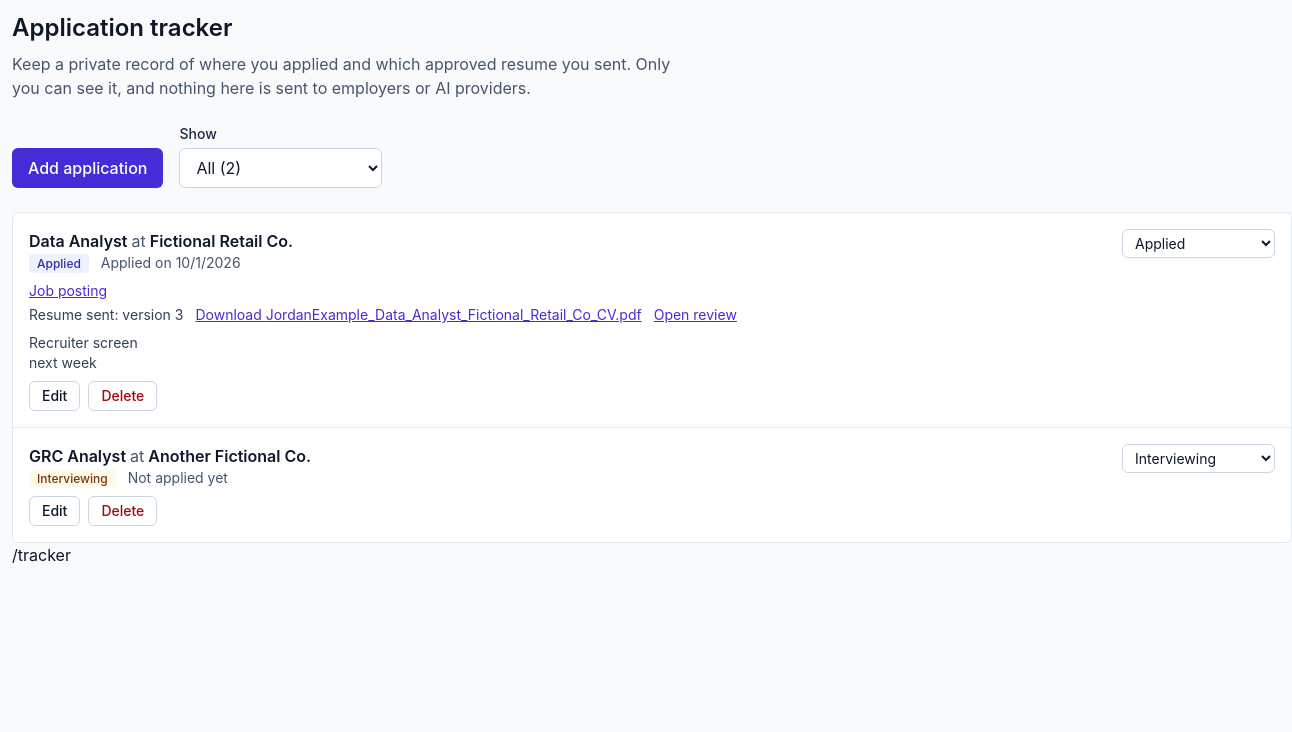
TrackerPage › asks before deleting and sends the version it loaded
The width and height of the screenshot is (1292, 732).
Check: the heading "Data Analyst at Fictional Retail Co." is shown, box x1=29 y1=229 x2=293 y2=253
Click the button with aria-label "Delete Data Analyst" at (123, 396), box x1=88 y1=381 x2=157 y2=411
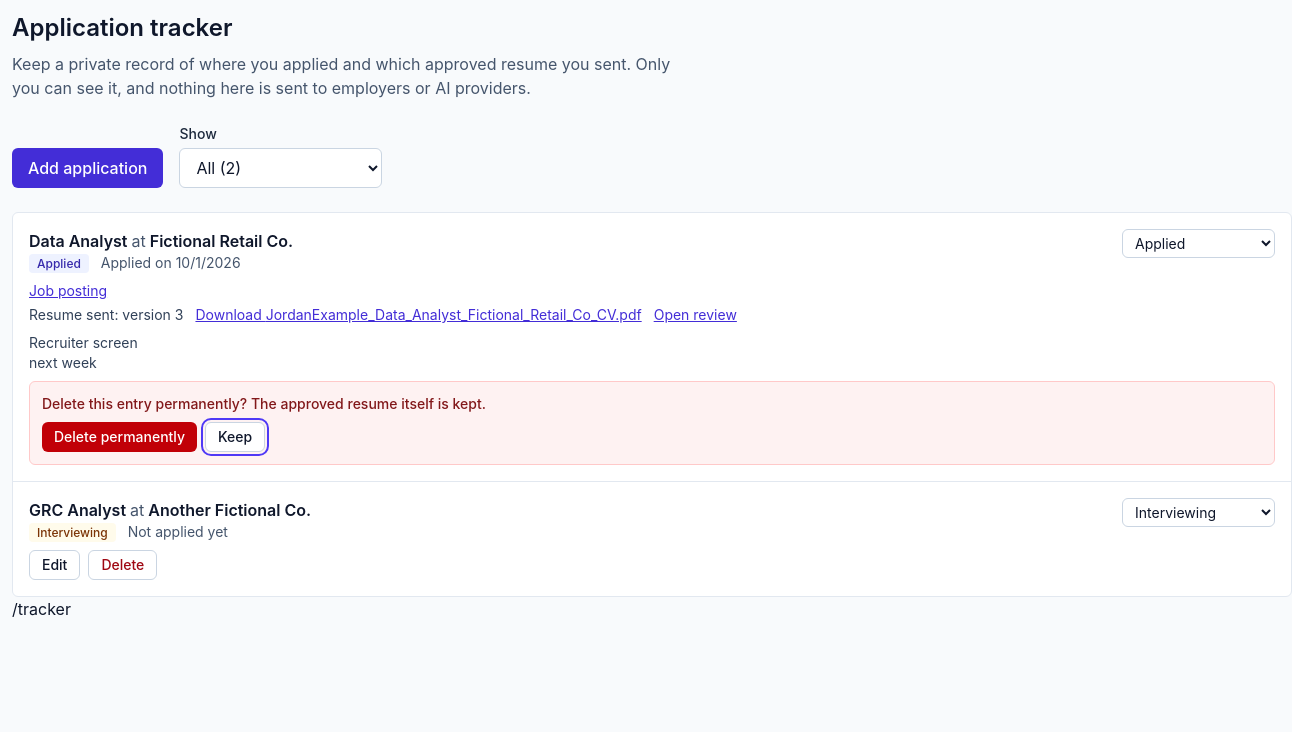
Click the button "Keep" at (235, 437), box x1=205 y1=422 x2=265 y2=452
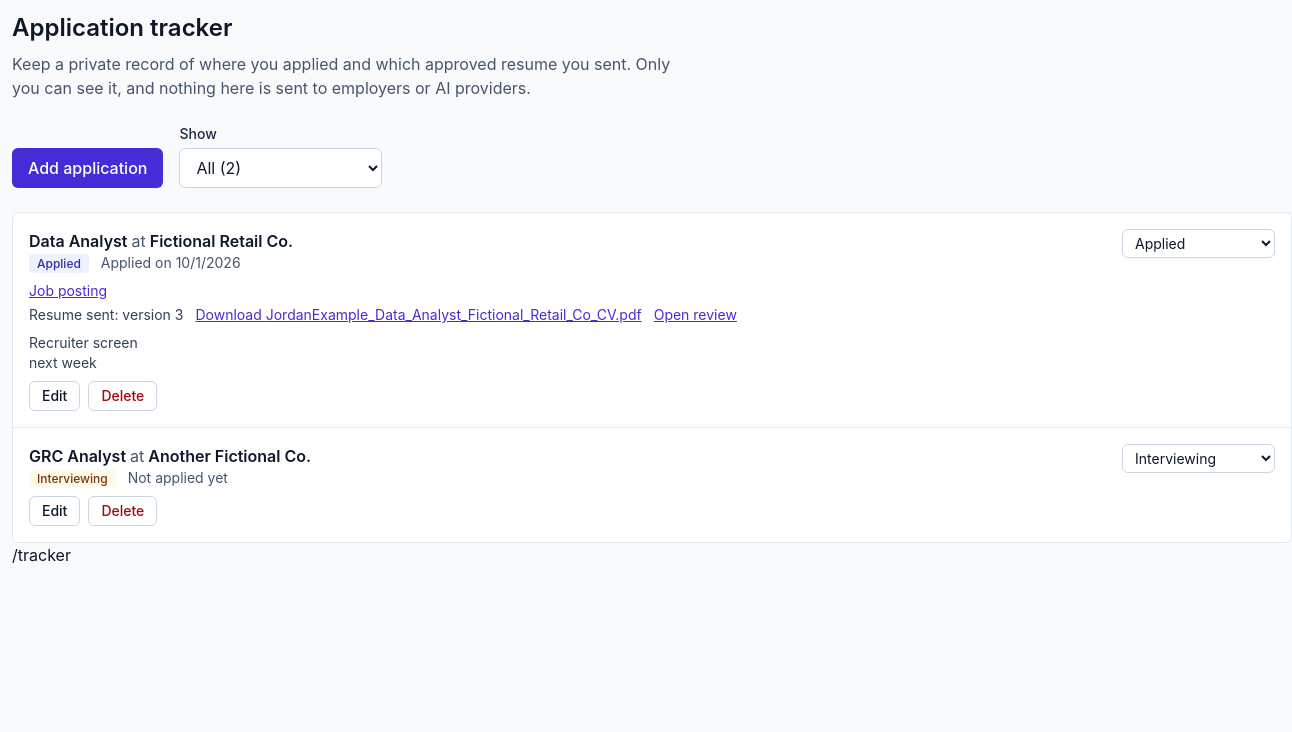
Click the button with aria-label "Delete Data Analyst" at (123, 396), box x1=88 y1=381 x2=157 y2=411
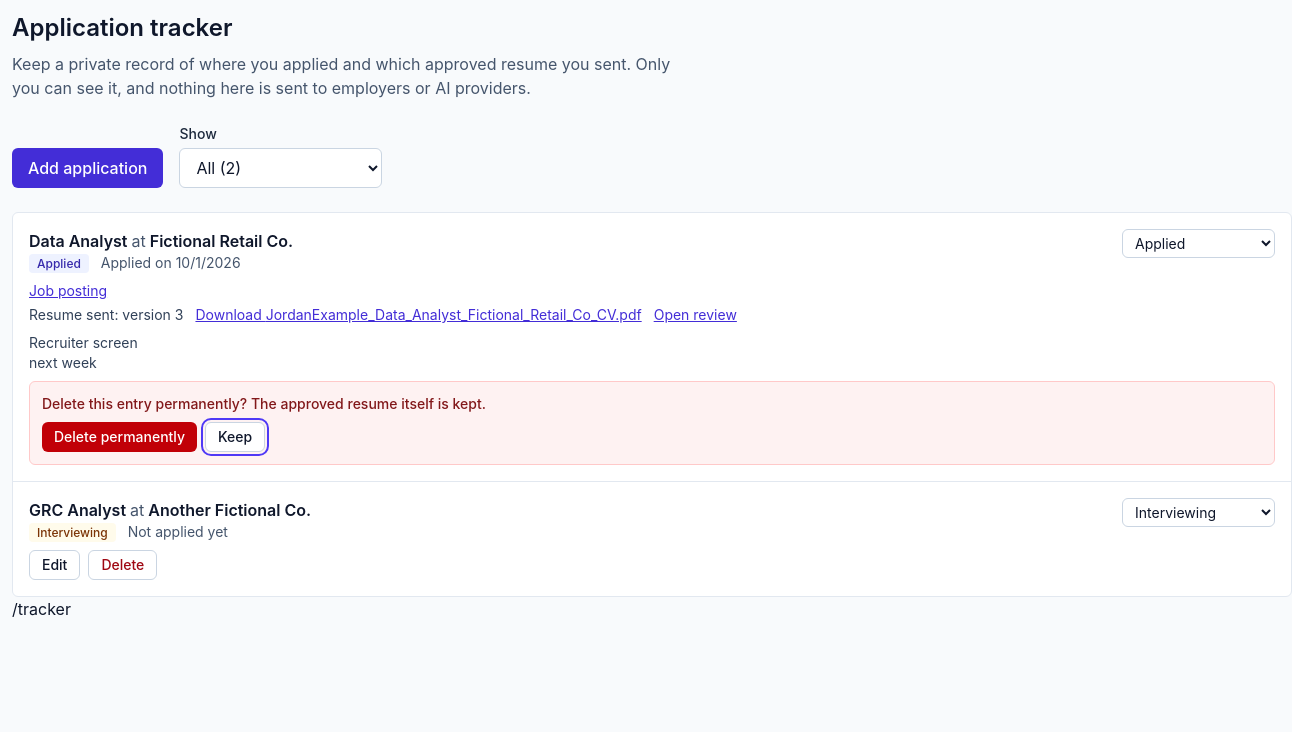
Click the button "Delete permanently" at (120, 437), box x1=42 y1=422 x2=197 y2=452
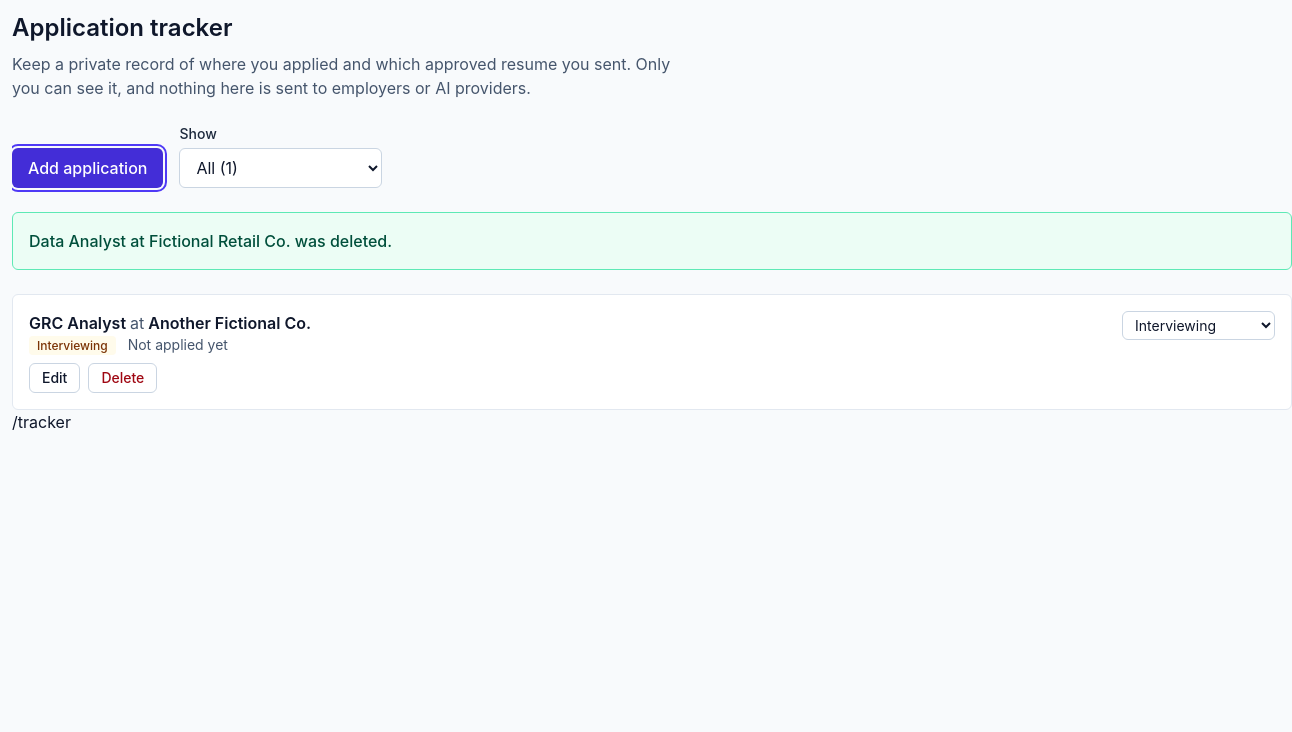
Check: the heading "GRC Analyst at Another Fictional Co." is shown, box x1=29 y1=311 x2=311 y2=335
Check: the text "Data Analyst at Fictional Retail Co. was deleted." is shown, box x1=29 y1=231 x2=392 y2=251
